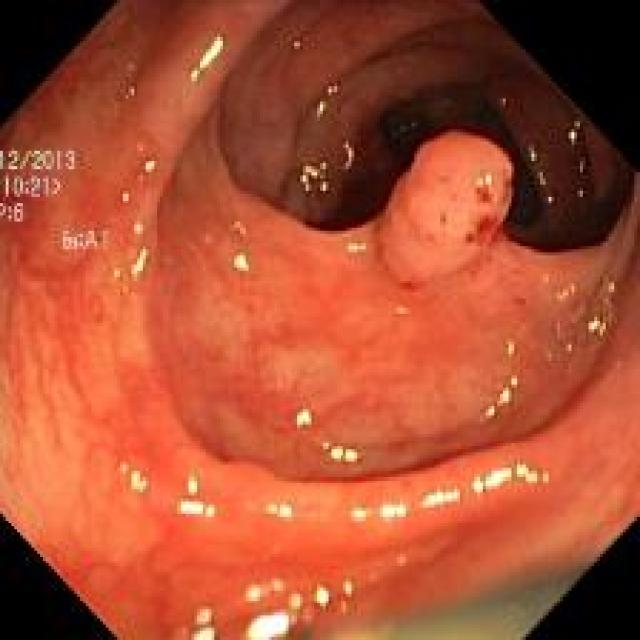Polyps: (379, 131, 512, 287)
